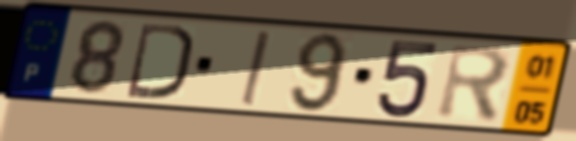5: (372, 36, 443, 120)
8: (67, 18, 128, 97)
9: (287, 30, 354, 116)
D: (124, 19, 196, 102)
I: (237, 28, 273, 109)
R: (433, 41, 514, 127)
